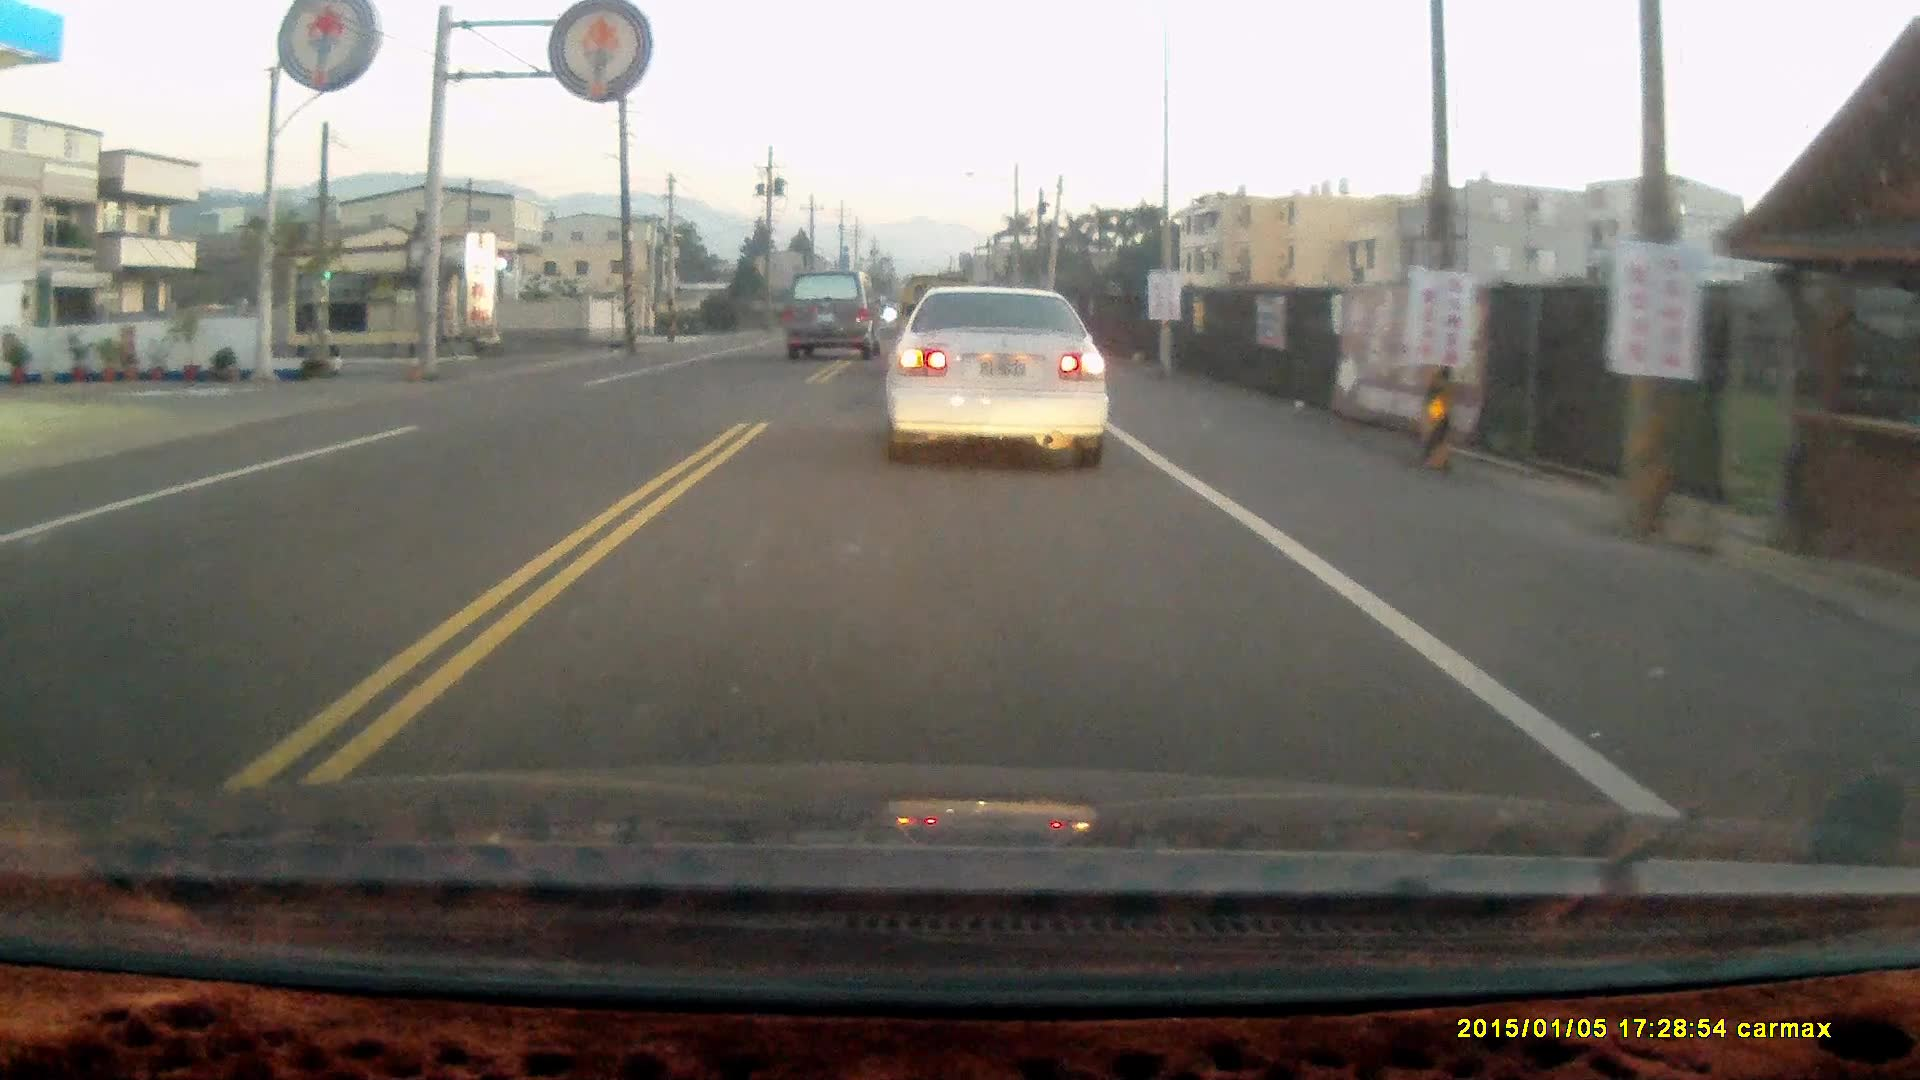vehicle: (880, 287, 1117, 476), (775, 272, 886, 369)
